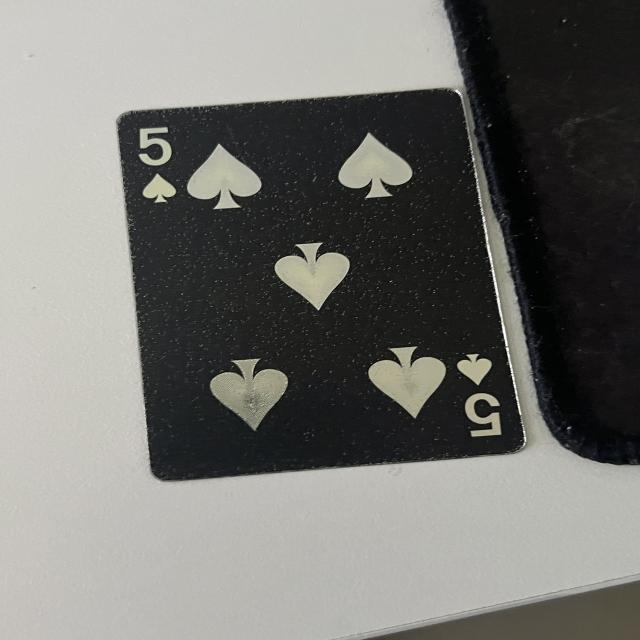5S: (128, 122, 189, 217), (449, 349, 510, 440)
